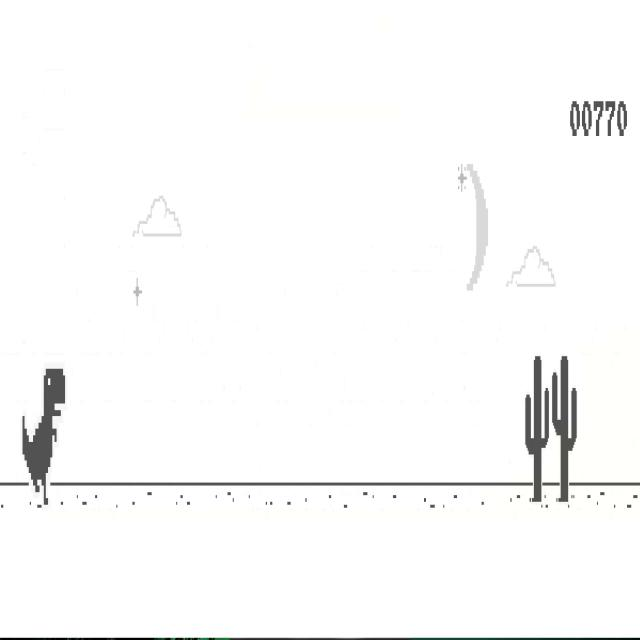cacto: (552, 354, 578, 505), (525, 354, 550, 503)
dino: (22, 368, 66, 506)
